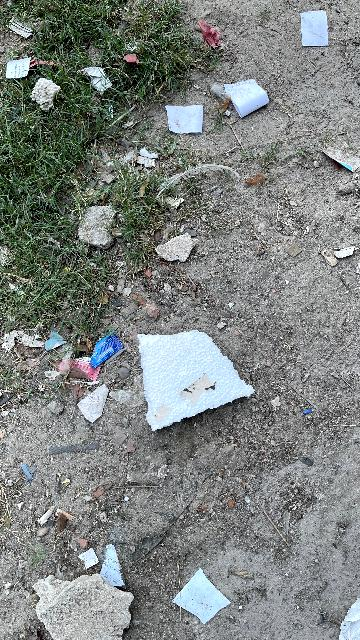cocksheet: (124, 314, 268, 436)
